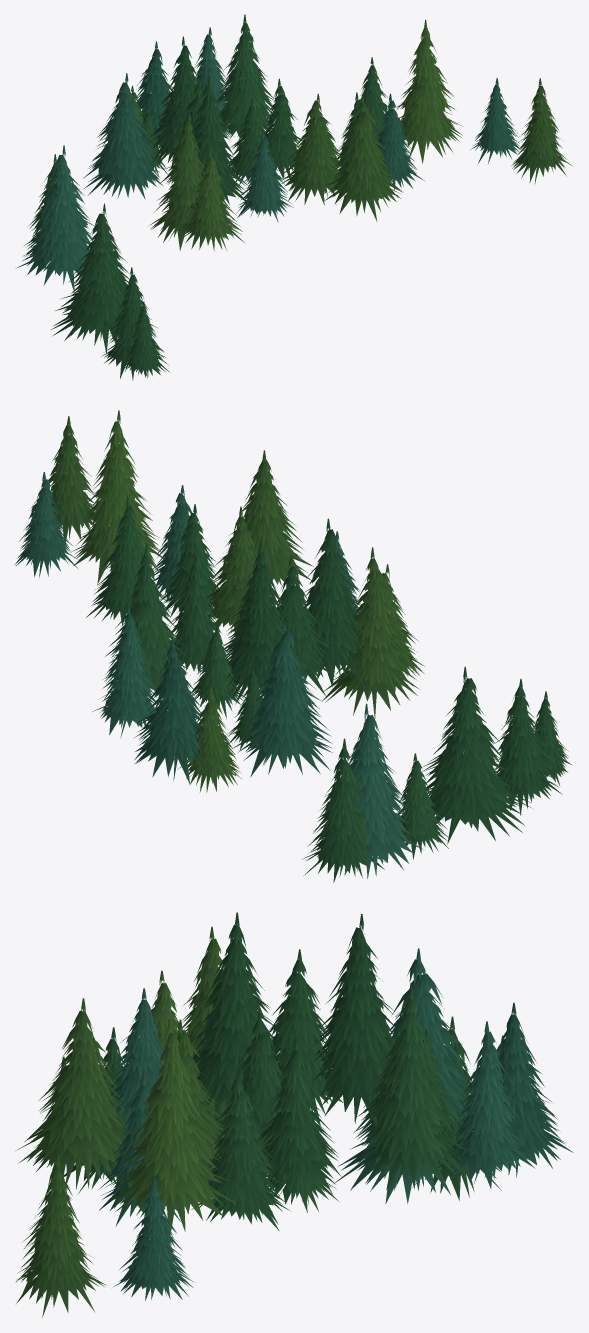
The model's file is pine_11.glb.
3 views of the same model, one above another, from view 1: azimuth 30°, elevation 25°; view 2: azimuth 150°, elevation 25°; view 3: azimuth 270°, elevation 25° (orthographic). The views are drawn at different scales.
Visible parts, largest first — view 1: pine_11; view 2: pine_11; view 3: pine_11.
Part boxes in pixels (left/top/right/bottom): pine_11: left=15, top=14, right=573, bottom=380; pine_11: left=14, top=410, right=572, bottom=882; pine_11: left=15, top=912, right=573, bottom=1317.
Bounding box in the file's own units: 53.18 × 28.44 × 36.65.
1 material, 1 textured.
